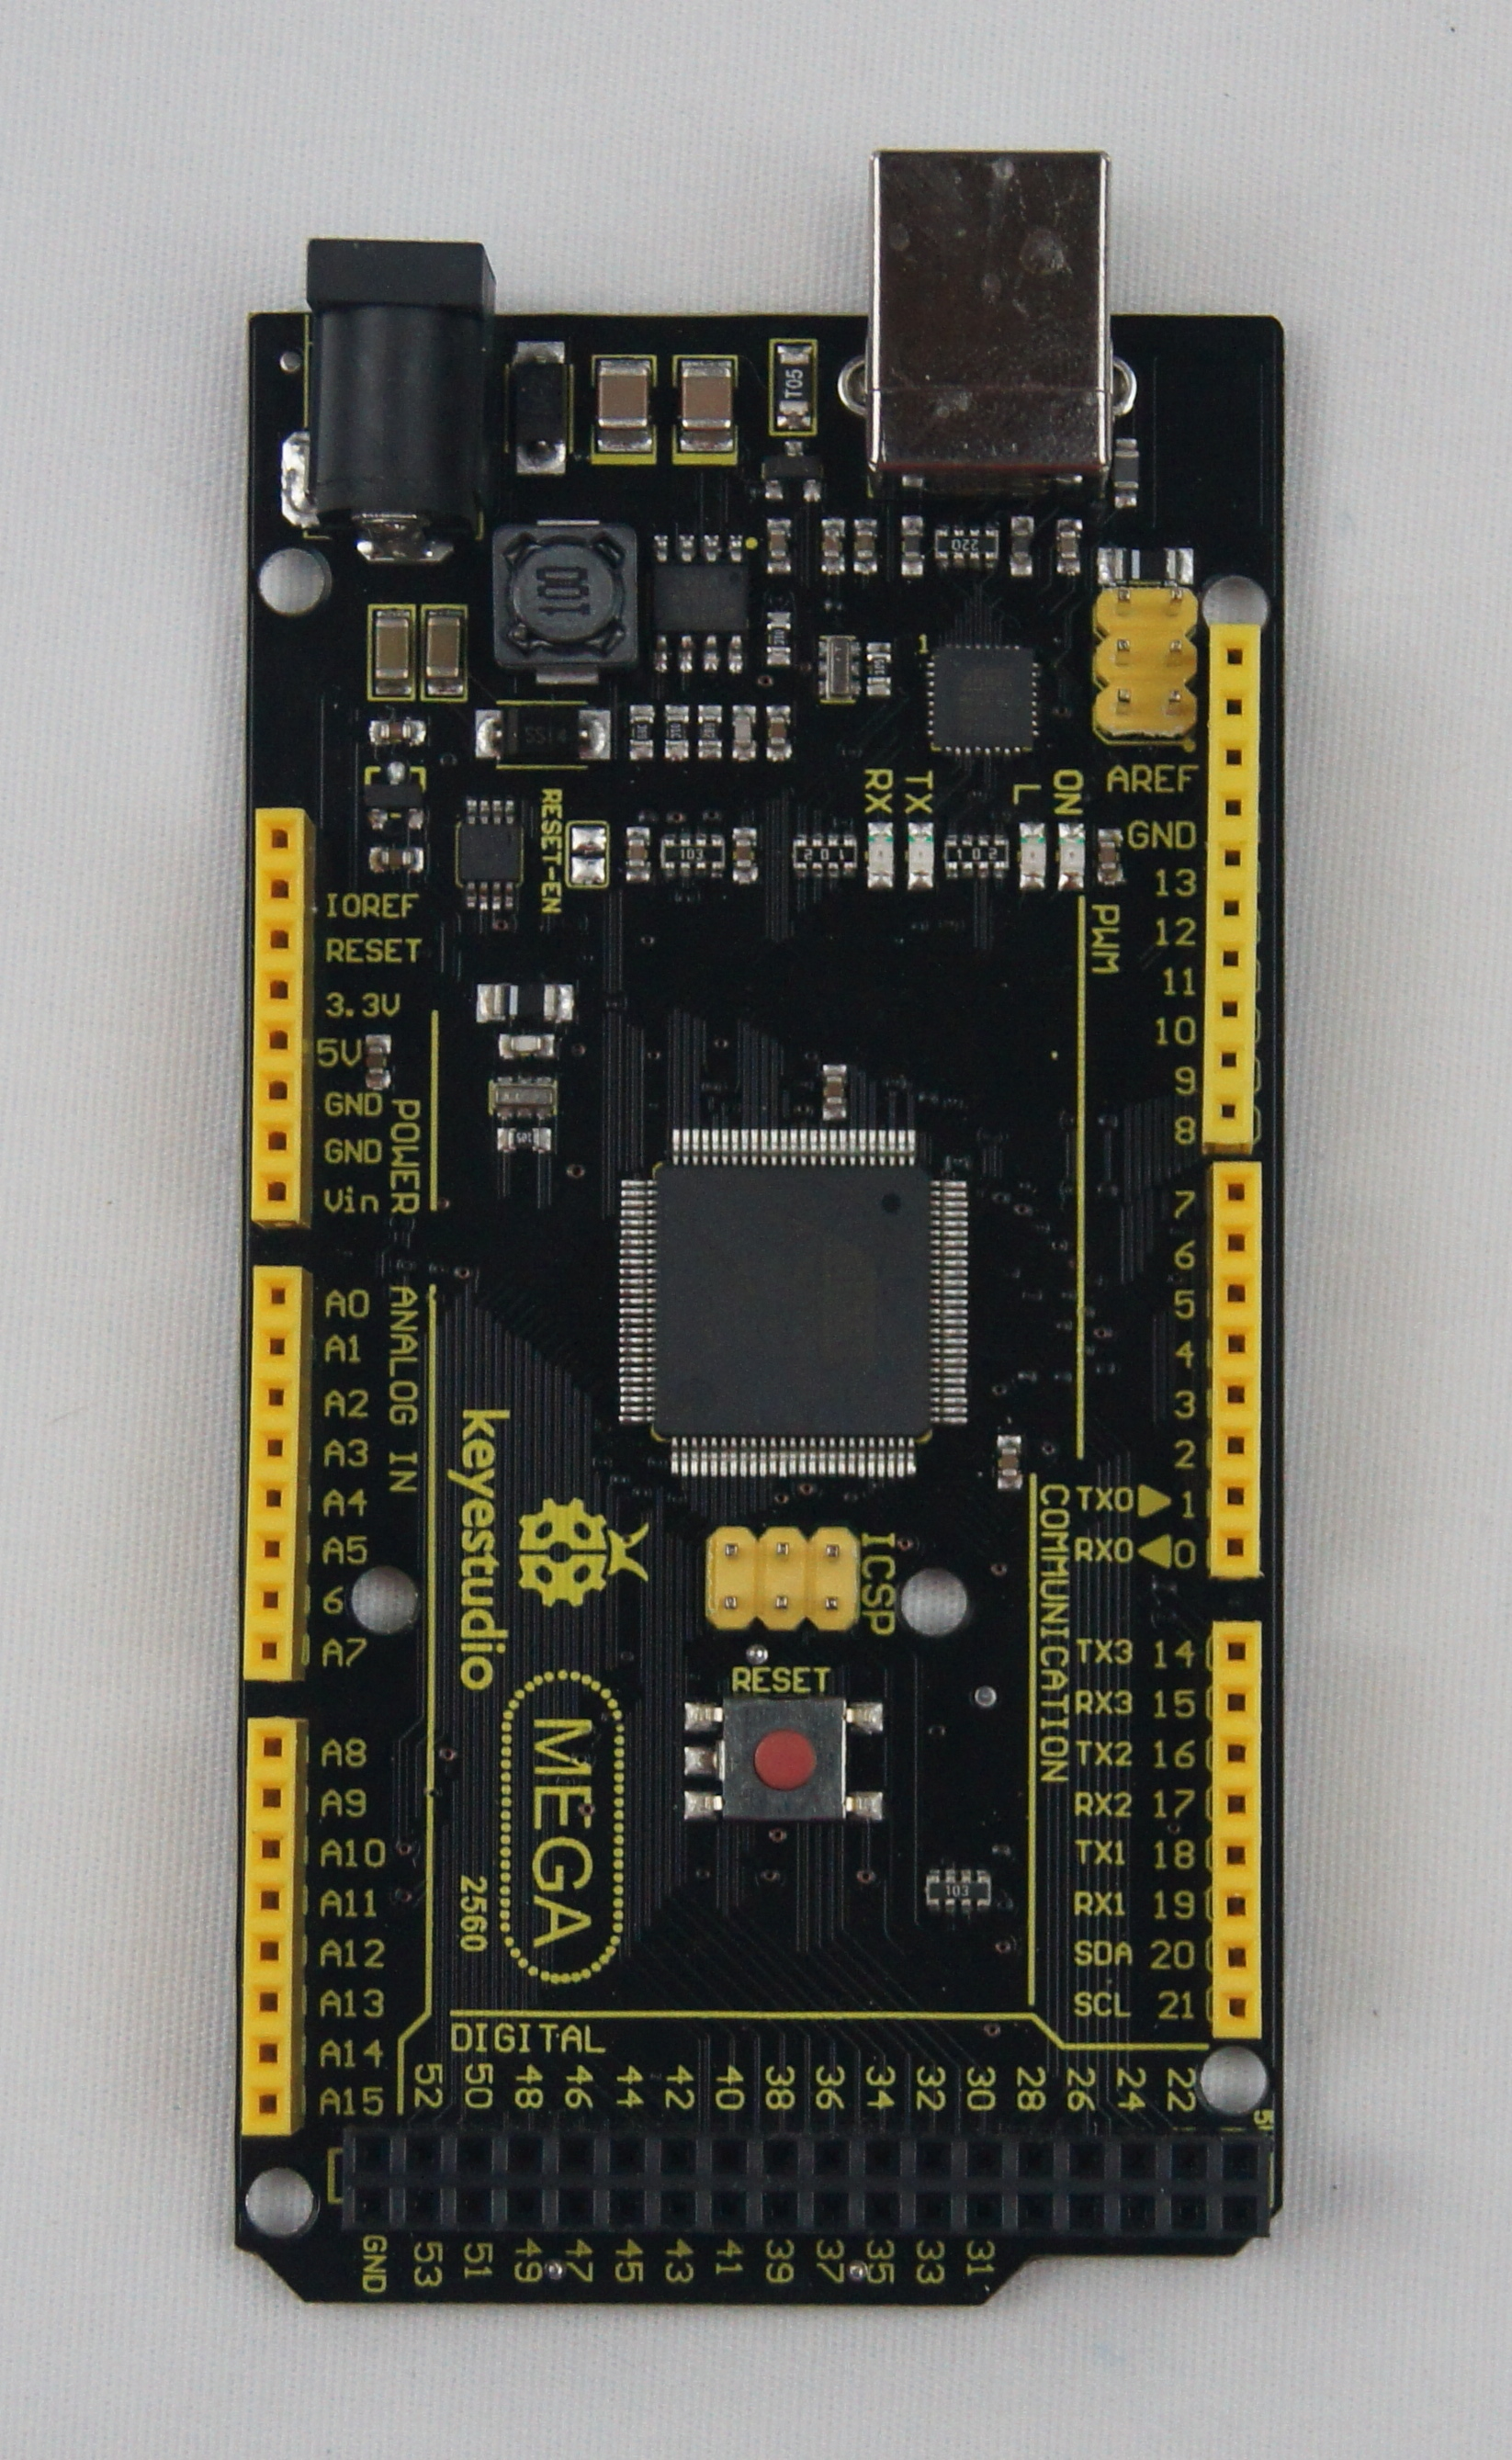kondensator: (600, 358, 652, 446), (680, 358, 731, 441), (367, 606, 413, 691), (422, 610, 464, 689), (378, 717, 433, 750), (997, 1437, 1020, 1487), (1058, 525, 1079, 573), (731, 708, 752, 756), (731, 831, 752, 877), (768, 518, 789, 562), (364, 1038, 385, 1081), (626, 831, 645, 877), (823, 1067, 840, 1116), (376, 849, 418, 868), (770, 708, 788, 754), (1101, 836, 1118, 882), (856, 524, 874, 568), (825, 525, 839, 569)
